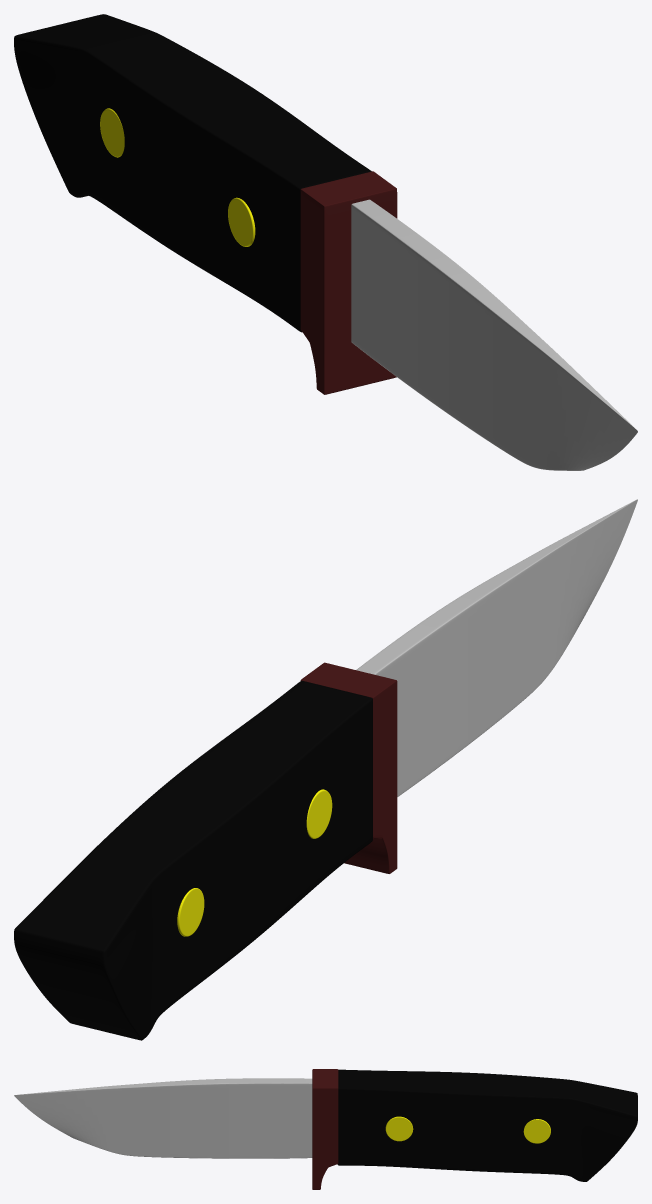
File: Knife Ammo.fbx
The picture shows the model from 3 angles, top to bottom: view 1: azimuth 30°, elevation 25°; view 2: azimuth 150°, elevation 25°; view 3: azimuth 270°, elevation 25°; orthographic projection. The views are drawn at different scales.
Parts seen in each view (by area): view 1: Handle, Blade, Guard, screw; view 2: Handle, Blade, Guard, screw; view 3: Handle, Blade, Guard, screw.
Part boxes in pixels (left/top/right/bottom): Handle: left=14, top=14, right=371, bottom=332; Blade: left=351, top=199, right=637, bottom=470; Guard: left=300, top=171, right=397, bottom=394; screw: left=100, top=108, right=255, bottom=246; Handle: left=14, top=681, right=372, bottom=1040; Blade: left=356, top=499, right=637, bottom=796; Guard: left=300, top=662, right=397, bottom=873; screw: left=177, top=789, right=332, bottom=936; Handle: left=337, top=1069, right=637, bottom=1181; Blade: left=14, top=1078, right=312, bottom=1158; Guard: left=312, top=1069, right=338, bottom=1189; screw: left=385, top=1116, right=550, bottom=1143.
Size of the model in its own units: 38.19 by 75.78 by 421.
